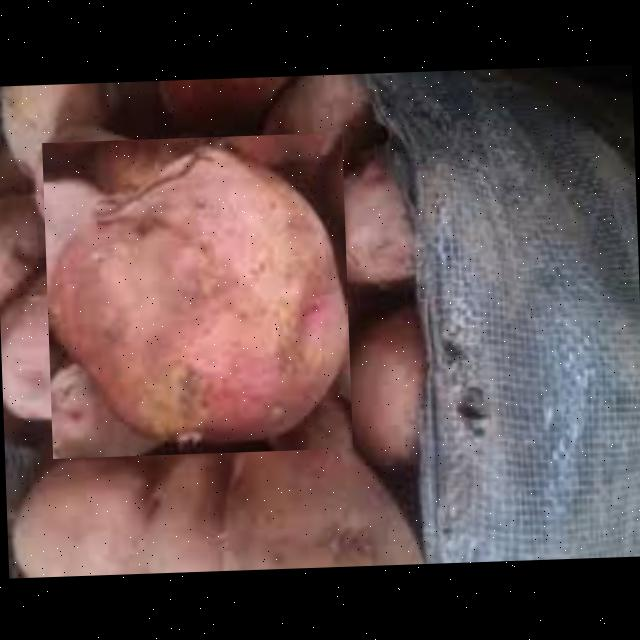Defected potato: (41, 132, 352, 458)
